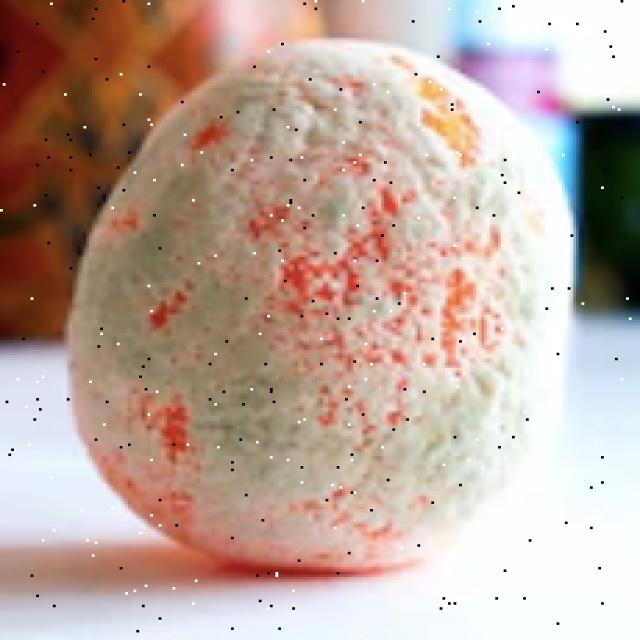Organik: (35, 11, 611, 594)
